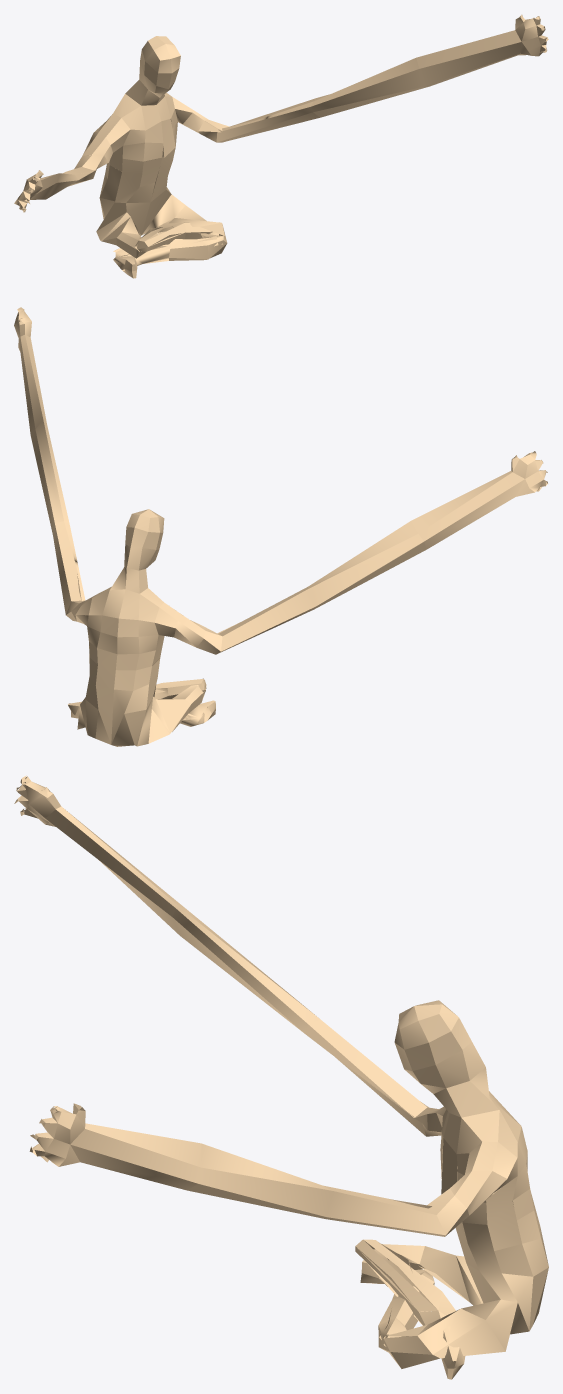
Rendered from test_model_jan2016.fbx.
3 views of the same model, one above another, from view 1: azimuth 30°, elevation 25°; view 2: azimuth 150°, elevation 25°; view 3: azimuth 270°, elevation 25° (orthographic). The views are drawn at different scales.
Parts seen in each view (by area): view 1: HumanMale; view 2: HumanMale; view 3: HumanMale.
Boxes of the visible parts, bbox=[...] form: HumanMale: bbox=[14, 14, 548, 278]; HumanMale: bbox=[14, 307, 547, 746]; HumanMale: bbox=[14, 775, 548, 1379].
Size of the model in its own units: 240 by 118 by 141.
